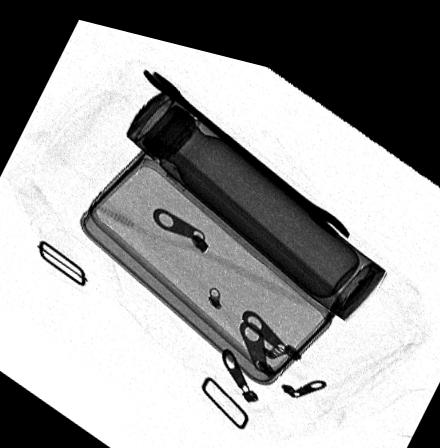Wrench: (140, 60, 352, 224)
